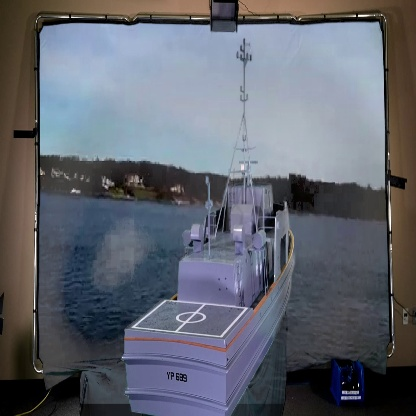YP689: (121, 40, 298, 416)
